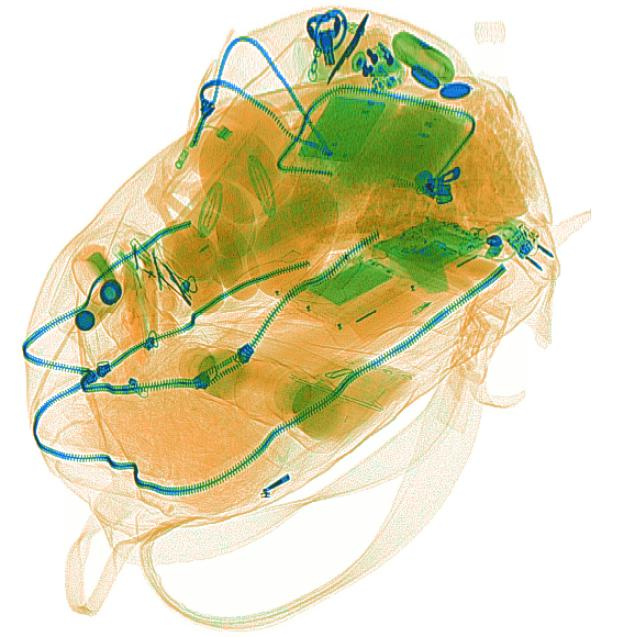seal: (270, 369, 345, 441), (177, 344, 253, 402)
